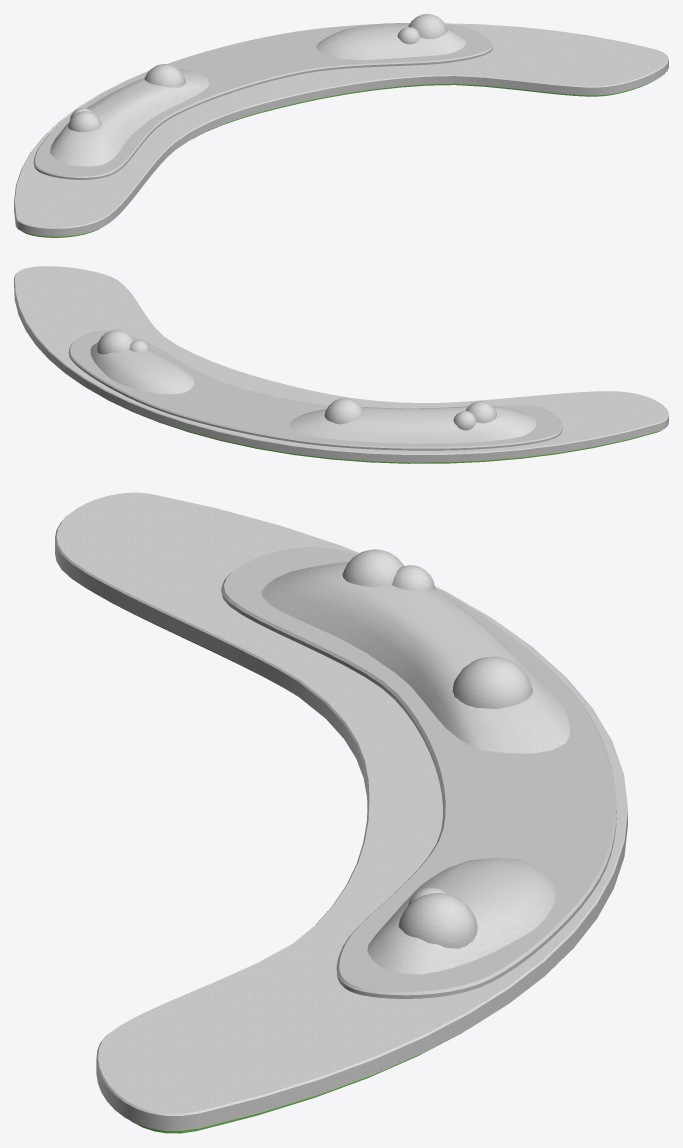
Rendered from MOb_ArtBench_001.fbx.
The picture shows the model from 3 angles, top to bottom: view 1: azimuth 30°, elevation 25°; view 2: azimuth 150°, elevation 25°; view 3: azimuth 270°, elevation 25°; orthographic projection. The views are drawn at different scales.
Parts seen in each view (by area): view 1: MOb_ArtBench_001; view 2: MOb_ArtBench_001; view 3: MOb_ArtBench_001.
Part boxes in pixels (x1,y1,x2,y2): MOb_ArtBench_001: (14,14,668,237); MOb_ArtBench_001: (14,266,668,463); MOb_ArtBench_001: (55,492,627,1133).
Bounding box in the file's own units: 17.76 × 1.11 × 6.91.
